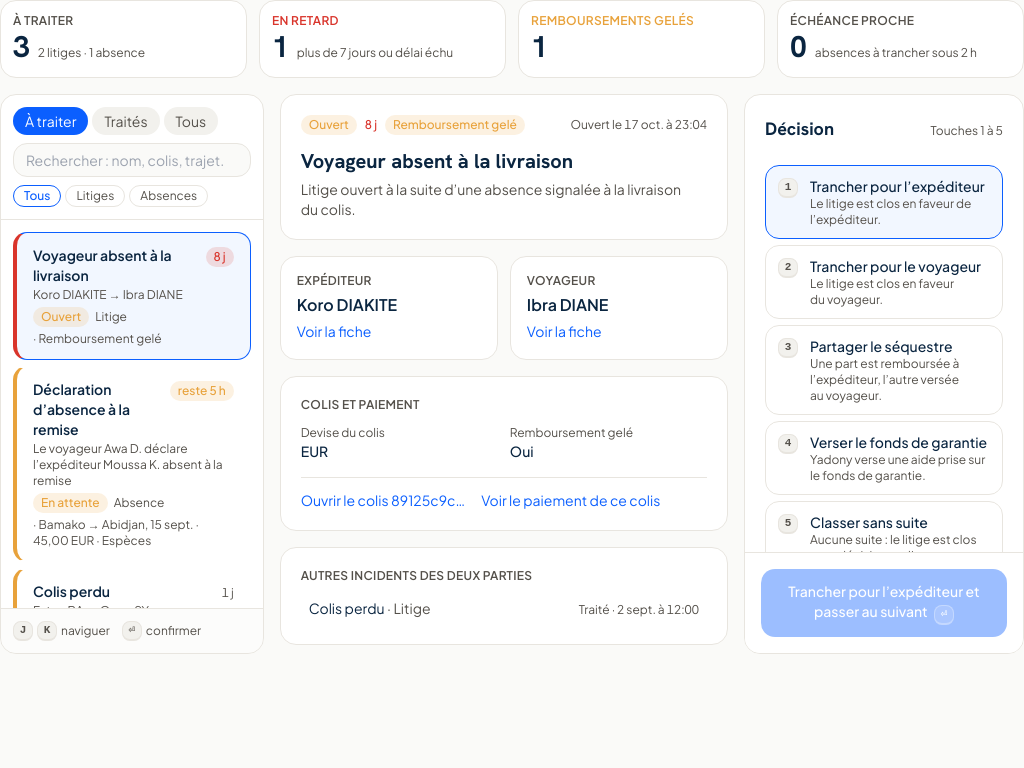
Test: pages/incidents › contexte (back #658) › un autre incident introuvable : message, rien ne change
Click the button with test id "incident-related-dispute:zz" at (347, 608), box [301,592,707,624]
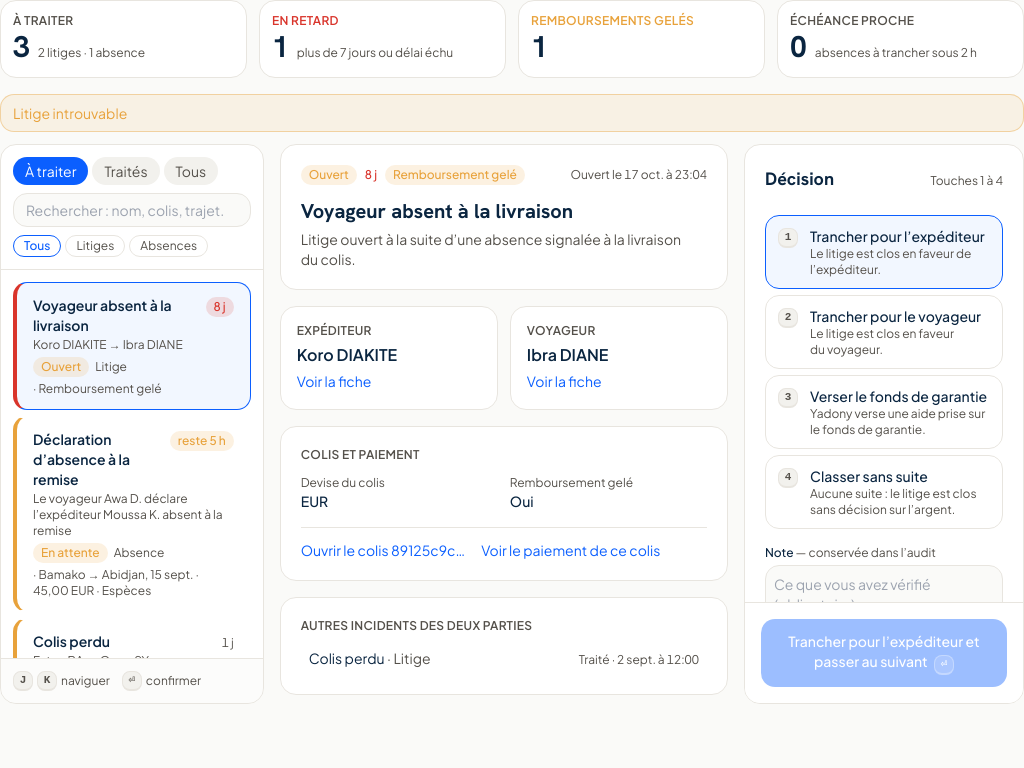
Expected: the text "Voyageur absent à la livraison" is shown, [33,296,172,334]
Expected: the message with test id "incident-open-error" reads "Litige introuvable", [13,104,127,122]
